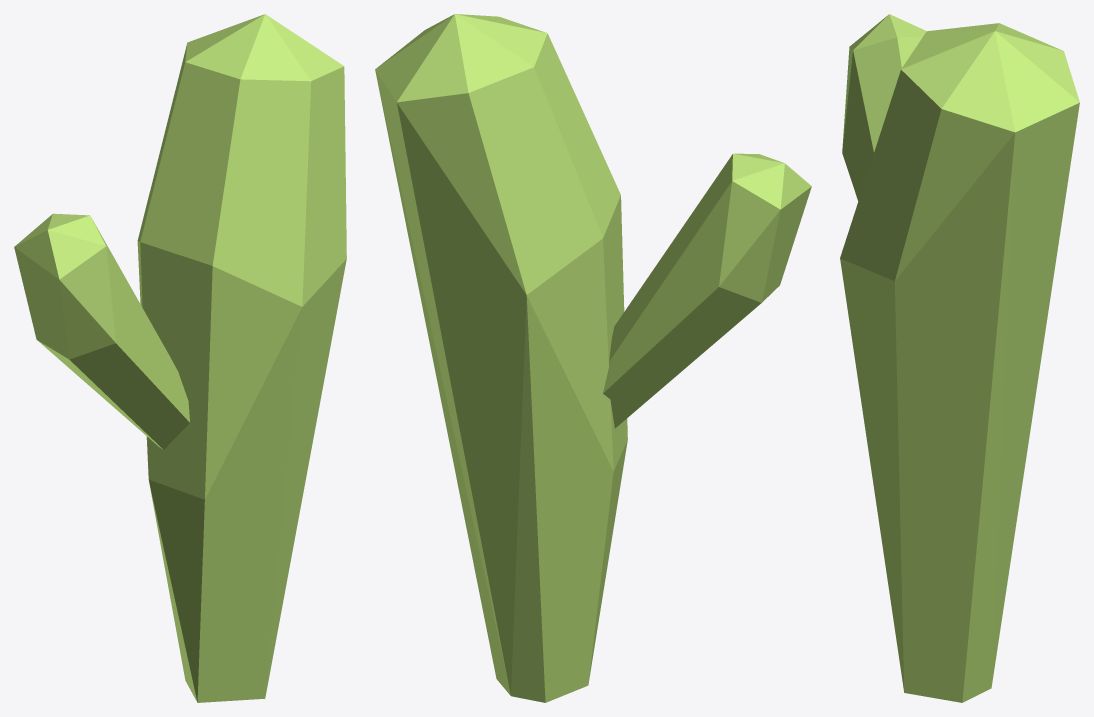
The model's file is cactus1.fbx.
3 views of the same model, side by side, from view 1: azimuth 30°, elevation 25°; view 2: azimuth 150°, elevation 25°; view 3: azimuth 270°, elevation 25° (orthographic). The views are drawn at different scales.
Visible parts, largest first — view 1: Cactus_a_m_03; view 2: Cactus_a_m_03; view 3: Cactus_a_m_03.
Part boxes in pixels (<box>): Cactus_a_m_03: <box>14,14,346,702</box>; Cactus_a_m_03: <box>375,14,811,702</box>; Cactus_a_m_03: <box>840,14,1079,702</box>.
Bounding box in the file's own units: 70.6 × 126 × 222.
Materials: 1 (1 with a texture image).
